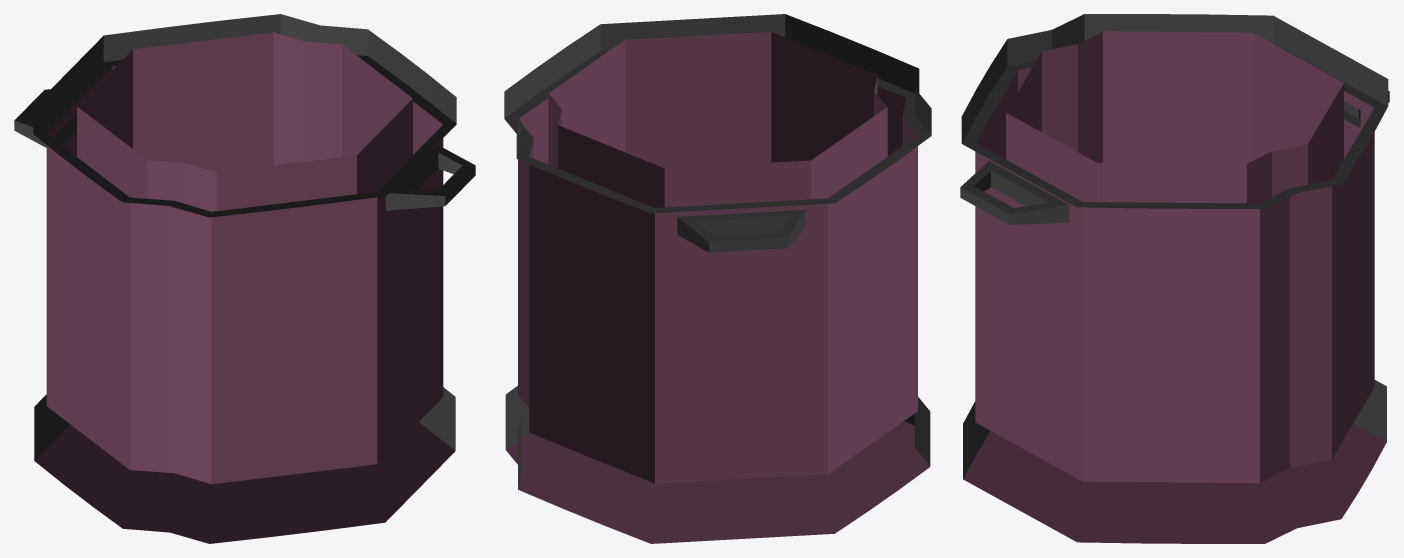
File: Trash Can 1.fbx
3 views of the same model, side by side, from view 1: azimuth 30°, elevation 25°; view 2: azimuth 150°, elevation 25°; view 3: azimuth 270°, elevation 25° (orthographic). The views are drawn at different scales.
Visible parts, largest first — view 1: Node 0; view 2: Node 0; view 3: Node 0.
Boxes of the visible parts, x1=… form: Node 0: x1=14, y1=14, x2=475, y2=543; Node 0: x1=504, y1=14, x2=931, y2=543; Node 0: x1=960, y1=14, x2=1389, y2=543.
Size of the model in its own units: 0.5477 by 0.5111 by 0.5054.
